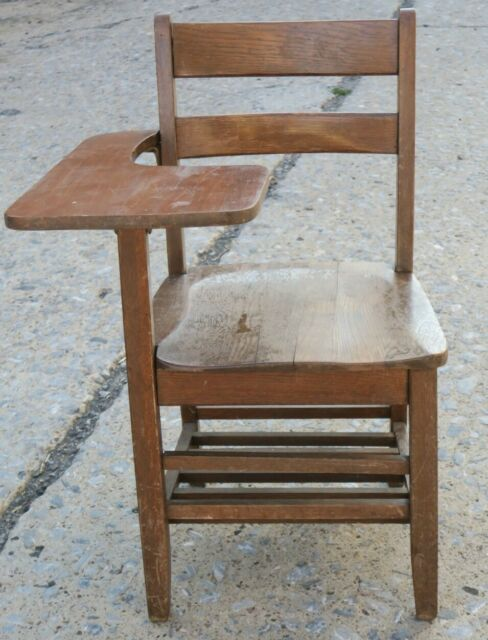desk: (6, 8, 447, 625)
